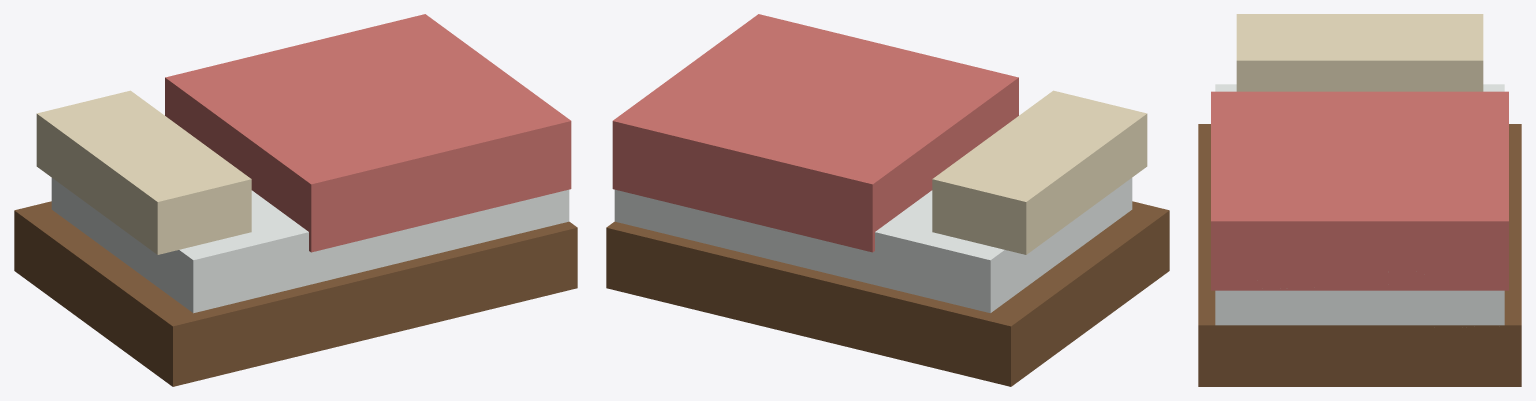
Rendered from bed.glb.
3 views of the same model, side by side, from view 1: azimuth 30°, elevation 25°; view 2: azimuth 150°, elevation 25°; view 3: azimuth 270°, elevation 25° (orthographic).
Visible parts, largest first — view 1: Blanket, BedFrame, Pillow, Mattress; view 2: Blanket, BedFrame, Pillow, Mattress; view 3: Blanket, BedFrame, Pillow, Mattress.
Part boxes in pixels (x1,y1,x2,y2): Blanket: (165, 14, 571, 252); BedFrame: (14, 201, 577, 386); Pillow: (36, 90, 251, 254); Mattress: (51, 178, 569, 313); Blanket: (612, 14, 1018, 252); BedFrame: (606, 201, 1169, 386); Pillow: (932, 90, 1147, 254); Mattress: (614, 178, 1132, 313); Blanket: (1211, 91, 1508, 290); BedFrame: (1198, 124, 1521, 386); Pillow: (1236, 14, 1483, 91); Mattress: (1215, 84, 1504, 325).
Bounding box in the file's own units: 1.12 × 0.45 × 0.76.
